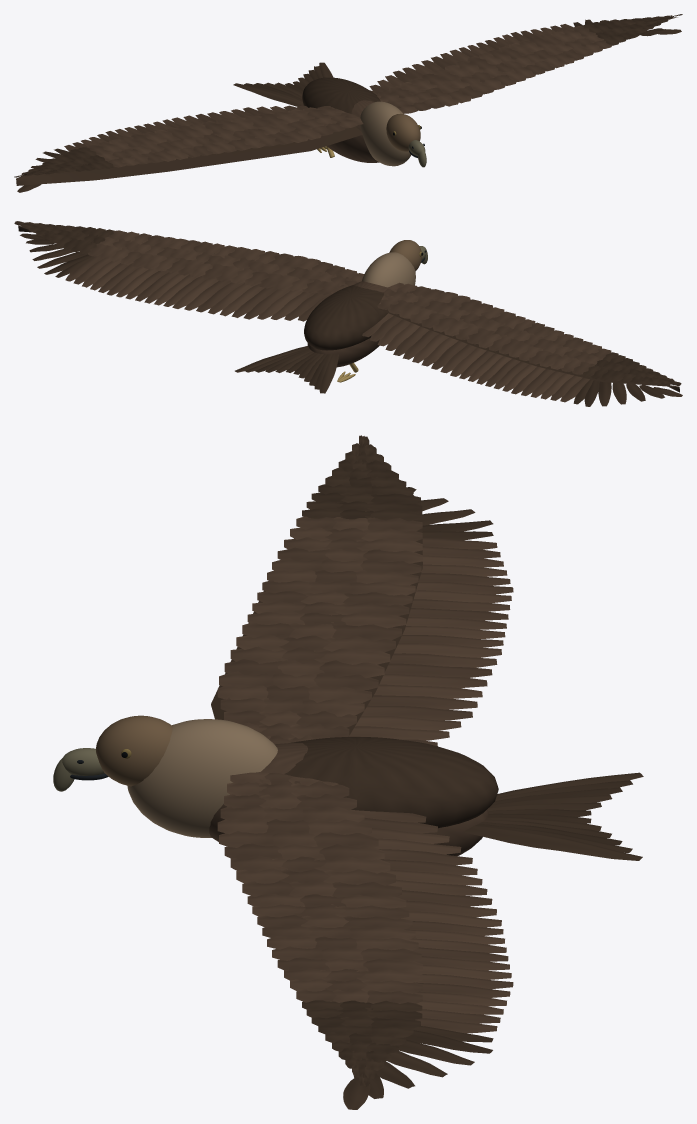
File: v3-black-kite.glb
The picture shows the model from 3 angles, top to bottom: view 1: azimuth 30°, elevation 25°; view 2: azimuth 150°, elevation 25°; view 3: azimuth 270°, elevation 25°; orthographic projection. The views are drawn at different scales.
Parts seen in each view (by area): view 1: surface-detail (×8), leading-edge-cover (×3), neck, mantle, breast, head; view 2: surface-detail (×7), mantle, neck, breast, head; view 3: surface-detail (×8), mantle, neck, head, breast.
Boxes of the visible parts, left/top/right/bottom form: surface-detail (×8): left=14, top=14, right=682, bottom=192; leading-edge-cover (×3): left=16, top=126, right=362, bottom=185; neck: left=360, top=101, right=410, bottom=166; mantle: left=302, top=77, right=380, bottom=113; breast: left=327, top=100, right=379, bottom=162; head: left=386, top=113, right=420, bottom=151; surface-detail (×7): left=14, top=221, right=682, bottom=406; mantle: left=304, top=285, right=387, bottom=350; neck: left=362, top=252, right=415, bottom=287; breast: left=307, top=281, right=387, bottom=367; head: left=389, top=240, right=421, bottom=271; surface-detail (×8): left=53, top=435, right=643, bottom=1109; mantle: left=284, top=737, right=498, bottom=828; neck: left=127, top=719, right=277, bottom=837; head: left=96, top=715, right=172, bottom=786; breast: left=209, top=742, right=488, bottom=856.
Bounding box in the file's own units: 1.5 × 0.1797 × 0.5756.
